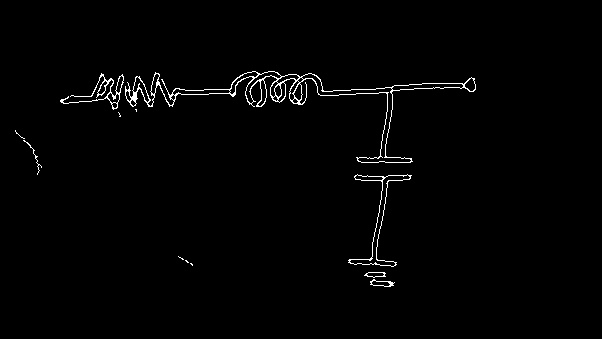capacitor: (352, 141, 416, 200)
ground1: (346, 243, 399, 316)
inductor: (219, 67, 337, 110)
resistor: (87, 68, 191, 114)
